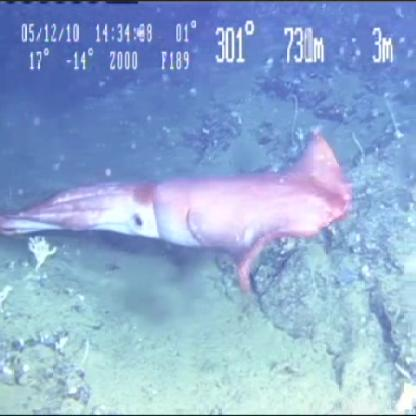Bio: (1, 124, 355, 300), (26, 232, 59, 276)
